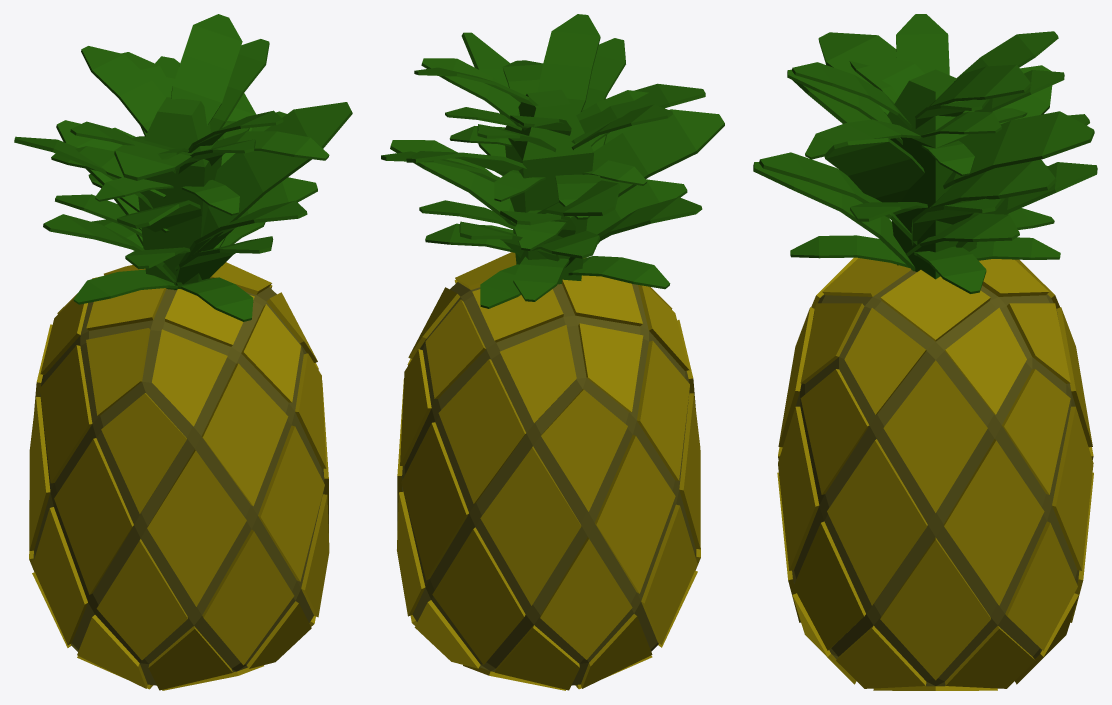
The model's file is pineapple.obj.
The picture shows the model from 3 angles, left to right: view 1: azimuth 30°, elevation 25°; view 2: azimuth 150°, elevation 25°; view 3: azimuth 270°, elevation 25°; orthographic projection. The views are drawn at different scales.
Visible parts, largest first — view 1: pineapple; view 2: pineapple; view 3: pineapple.
Part boxes in pixels (left/top/right/bottom): pineapple: left=14, top=14, right=352, bottom=690; pineapple: left=381, top=14, right=724, bottom=690; pineapple: left=753, top=14, right=1097, bottom=690.
Size of the model in its own units: 1.59 by 3.32 by 1.64.
